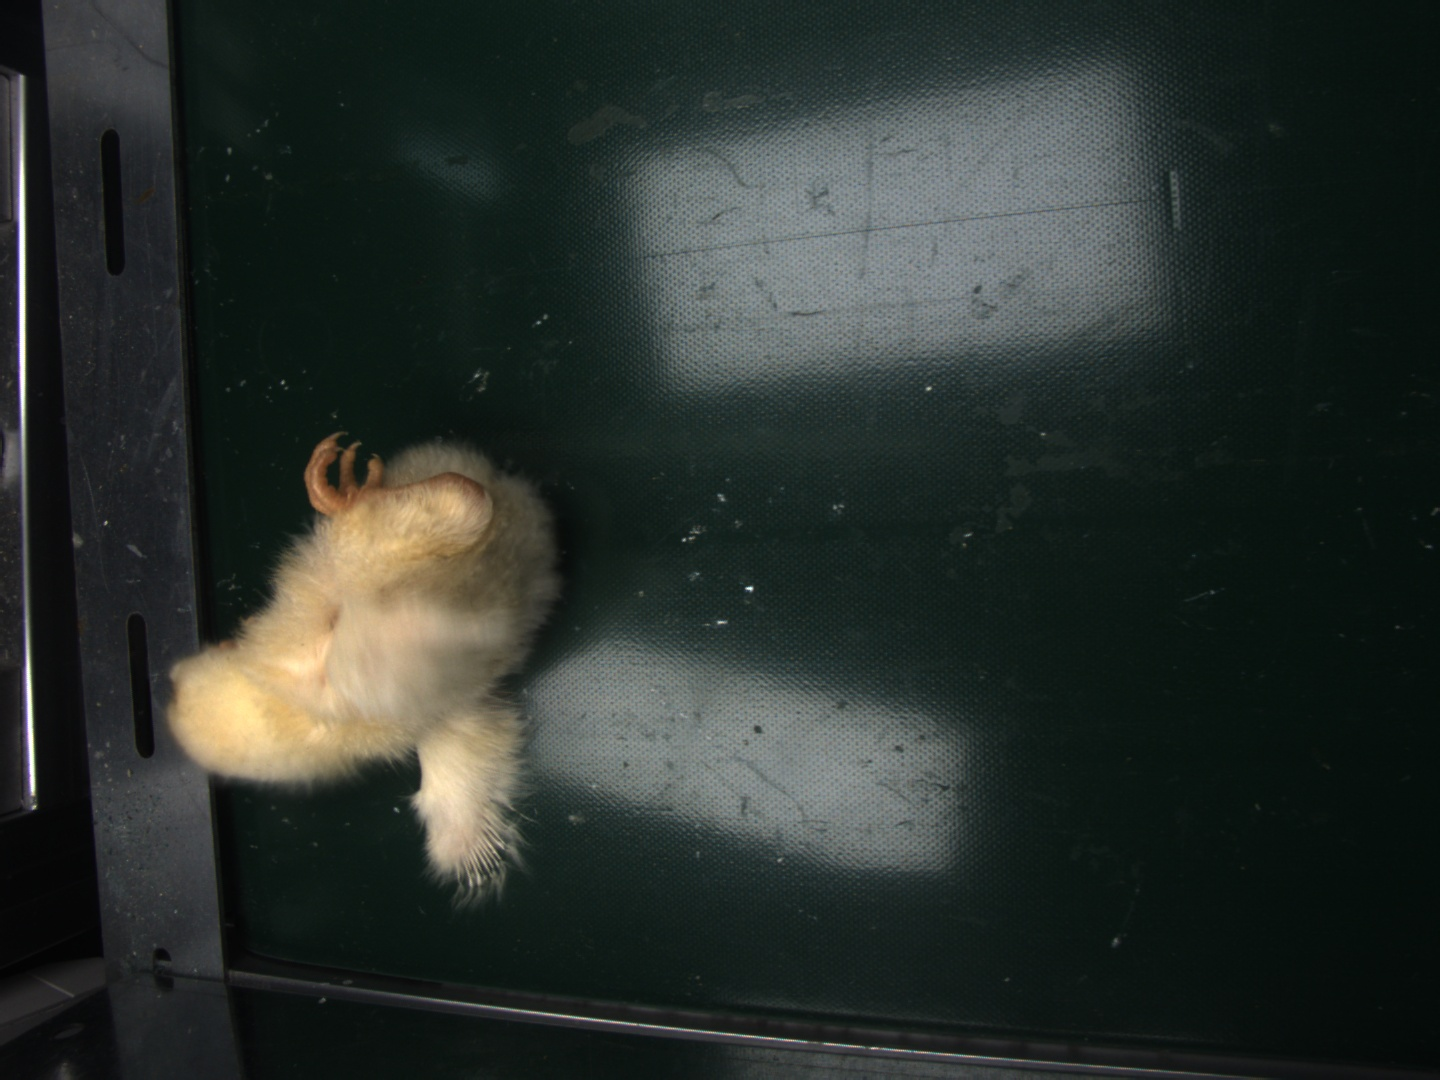male: (460, 822, 507, 885)
